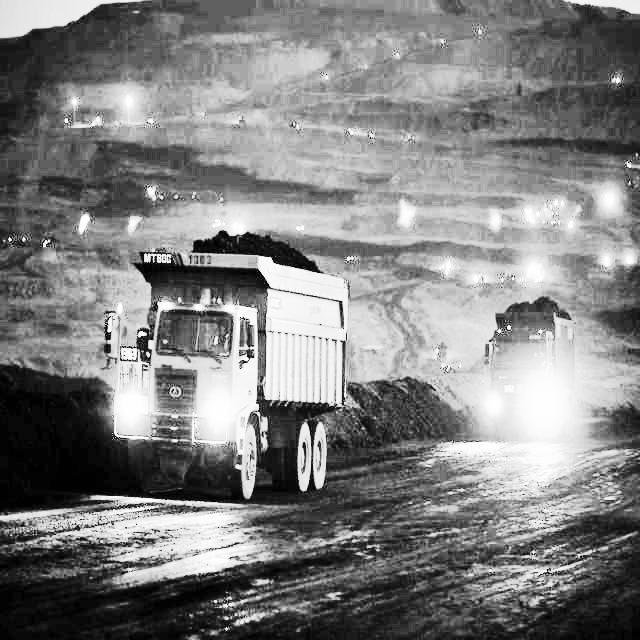Truck: (101, 249, 349, 501), (482, 296, 576, 439)
